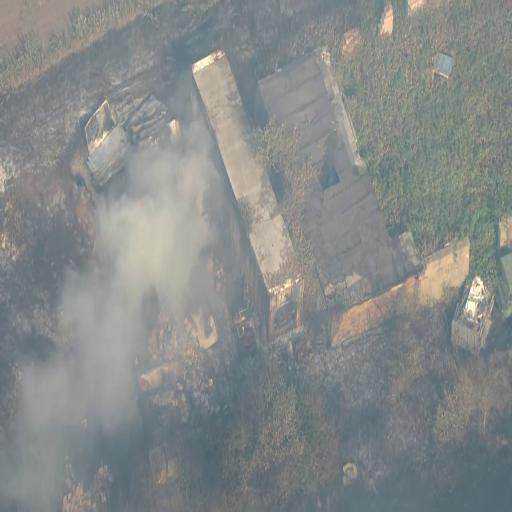smoke: (104, 193, 198, 296), (66, 272, 137, 386)
